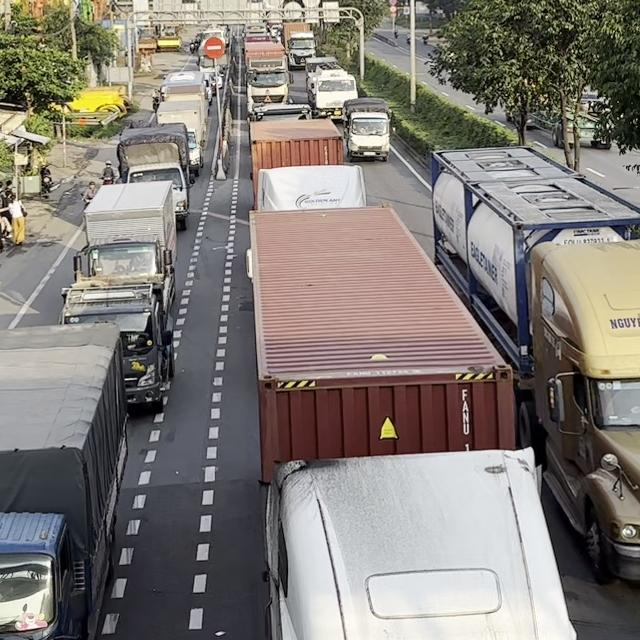motorcycle: (41, 174, 52, 193)
truck: (247, 201, 578, 640), (429, 143, 640, 591), (0, 320, 129, 639), (246, 117, 370, 277), (57, 280, 177, 414), (80, 183, 176, 297), (115, 122, 191, 230), (153, 99, 204, 173), (243, 39, 290, 114), (304, 57, 357, 121), (342, 97, 391, 161), (281, 21, 317, 68)
